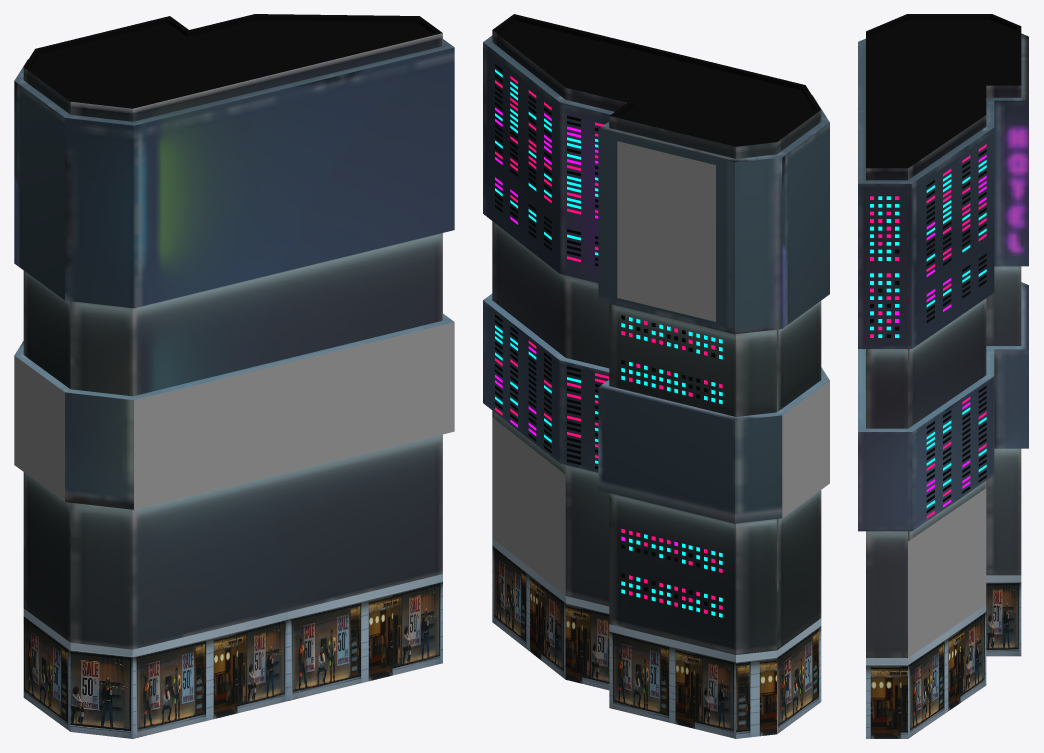
Rendered from BLD1310014.fbx.
3 renders of one model, left to right at view 1: azimuth 30°, elevation 25°; view 2: azimuth 150°, elevation 25°; view 3: azimuth 270°, elevation 25°, orthographic. The views are drawn at different scales.
Parts seen in each view (by area): view 1: smBLD1310014; view 2: smBLD1310014; view 3: smBLD1310014.
Part boxes in pixels (x1,y1,x2,y2): smBLD1310014: (14,14,454,738); smBLD1310014: (483,14,829,738); smBLD1310014: (858,14,1028,738).
Bounding box in the file's own units: 1244 × 2049 × 559.
4 materials, 1 textured.
